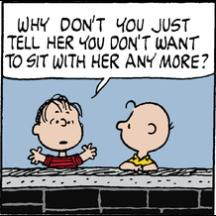charlie: (115, 98, 175, 172)
